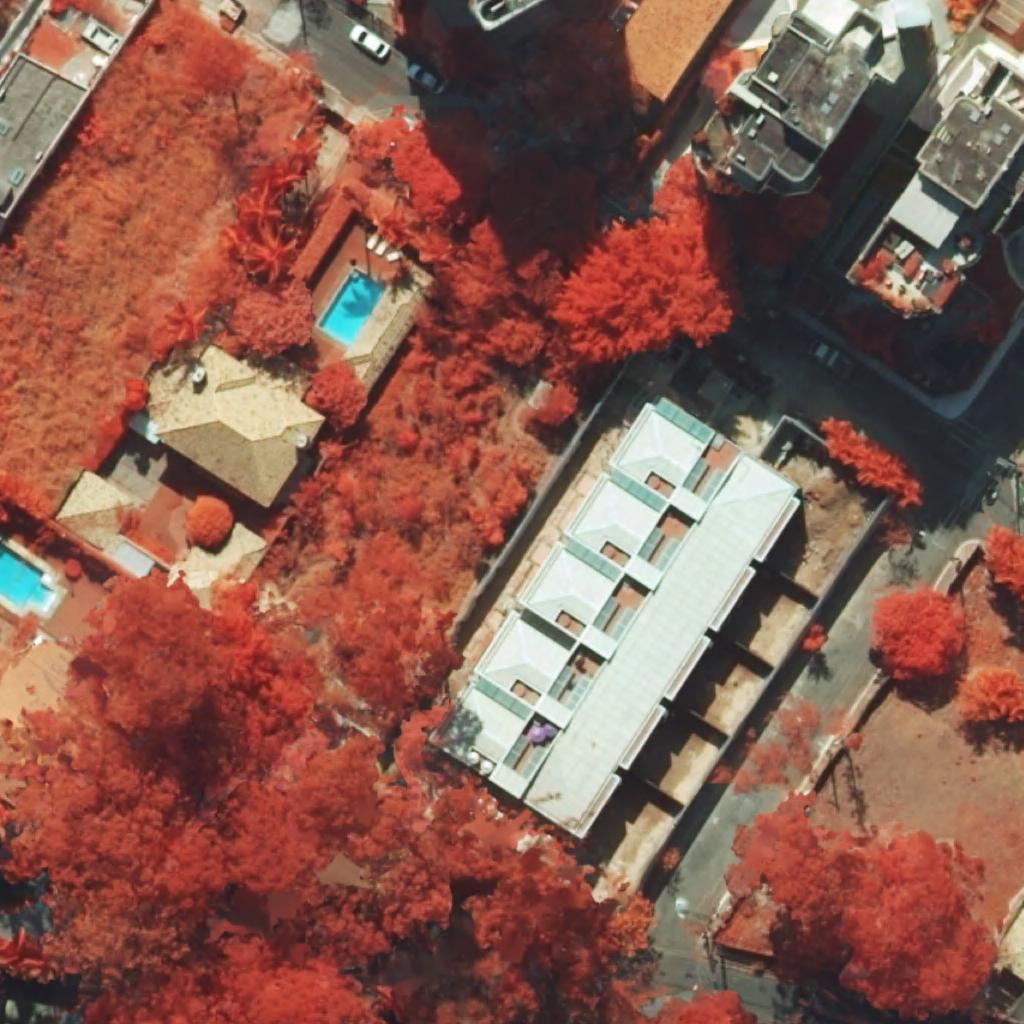pool: (318, 268, 387, 345), (0, 541, 51, 607)
